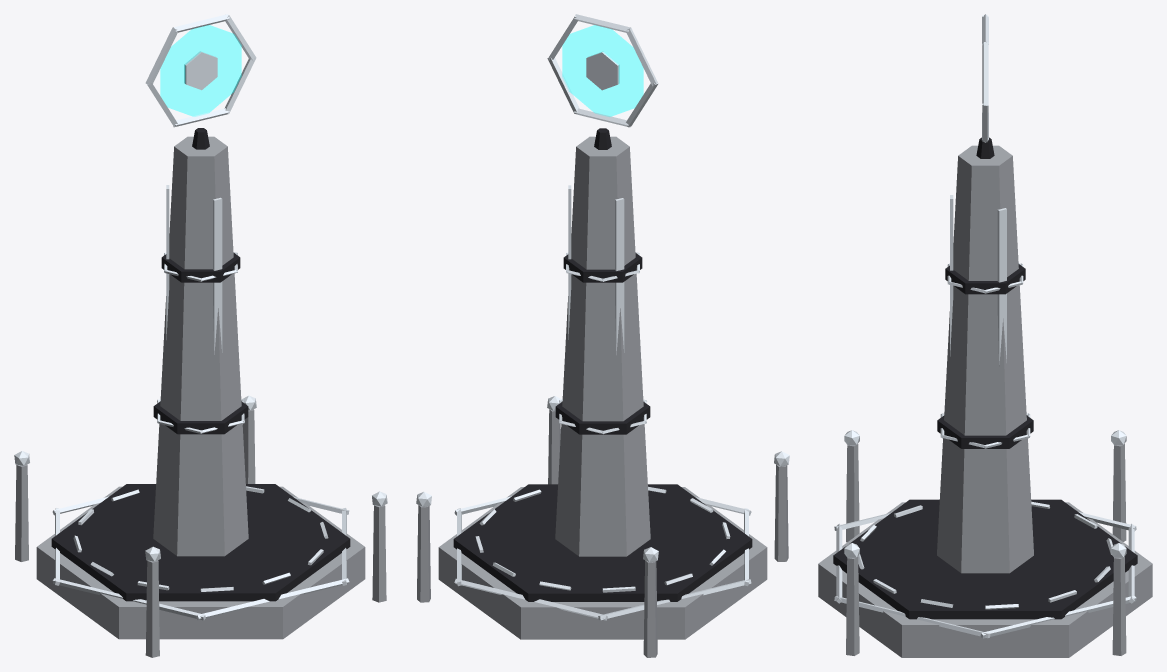
Rendered from Neutral_CaptureTower.fbx.
The picture shows the model from 3 angles, left to right: view 1: azimuth 30°, elevation 25°; view 2: azimuth 150°, elevation 25°; view 3: azimuth 270°, elevation 25°; orthographic projection.
Parts seen in each view (by area): view 1: Cap_Tower, Cap_BaseTop, Cap_Base, Cap_EmblemFill, Cap_BaseGlow, Cap_EmblemHex, Cap_BeaconPost3, Cap_Band0, Cap_BeaconPost2, Cap_BeaconPost1, Cap_Strip2, Cap_ProgressRing (+3 smaller); view 2: Cap_Tower, Cap_BaseTop, Cap_Base, Cap_EmblemFill, Cap_BaseGlow, Cap_EmblemHex, Cap_Band0, Cap_BeaconPost2, Cap_BeaconPost1, Cap_BeaconPost0, Cap_Strip1, Cap_ProgressRing (+3 smaller); view 3: Cap_Tower, Cap_BaseTop, Cap_Base, Cap_BaseGlow, Cap_ProgressRing, Cap_Band0, Cap_BeaconPost0, Cap_BeaconPost3, Cap_Strip0, Cap_BeaconPost2, Cap_BeaconPost1, Cap_Band1 (+1 smaller).
Part boxes in pixels (<box>): Cap_Tower: <box>153,136,248,556</box>; Cap_BaseTop: <box>51,484,350,601</box>; Cap_Base: <box>36,486,365,639</box>; Cap_EmblemFill: <box>160,25,241,116</box>; Cap_BaseGlow: <box>52,496,349,620</box>; Cap_EmblemHex: <box>145,14,256,127</box>; Cap_BeaconPost3: <box>372,505,386,602</box>; Cap_Band0: <box>153,401,248,434</box>; Cap_BeaconPost2: <box>145,560,159,657</box>; Cap_BeaconPost1: <box>15,465,28,561</box>; Cap_Strip2: <box>213,197,222,354</box>; Cap_ProgressRing: <box>73,486,328,591</box>; Cap_Tower: <box>555,136,650,556</box>; Cap_BaseTop: <box>453,484,752,601</box>; Cap_Base: <box>438,487,767,639</box>; Cap_EmblemFill: <box>562,25,643,116</box>; Cap_BaseGlow: <box>454,496,751,620</box>; Cap_EmblemHex: <box>547,14,658,127</box>; Cap_Band0: <box>555,401,650,434</box>; Cap_BeaconPost2: <box>774,464,788,561</box>; Cap_BeaconPost1: <box>643,560,657,657</box>; Cap_BeaconPost0: <box>417,505,430,602</box>; Cap_Strip1: <box>615,198,624,354</box>; Cap_ProgressRing: <box>475,486,730,592</box>; Cap_Tower: <box>937,145,1033,573</box>; Cap_BaseTop: <box>833,499,1137,619</box>; Cap_Base: <box>818,502,1152,657</box>; Cap_BaseGlow: <box>834,512,1136,638</box>; Cap_ProgressRing: <box>858,501,1112,609</box>; Cap_Band0: <box>937,415,1033,448</box>; Cap_BeaconPost0: <box>1112,556,1126,655</box>; Cap_BeaconPost3: <box>846,556,859,655</box>; Cap_Strip0: <box>997,208,1006,366</box>; Cap_BeaconPost2: <box>846,444,859,542</box>; Cap_BeaconPost1: <box>1112,444,1126,541</box>; Cap_Band1: <box>945,264,1025,294</box>.
Size of what is drawn, in the model's own units: 1.14 by 2.07 by 1.1.
